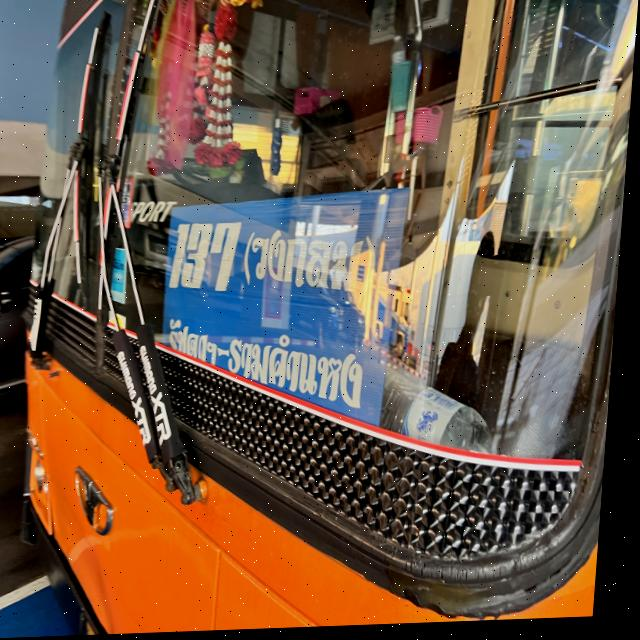Destination Sign: (167, 188, 414, 429)
